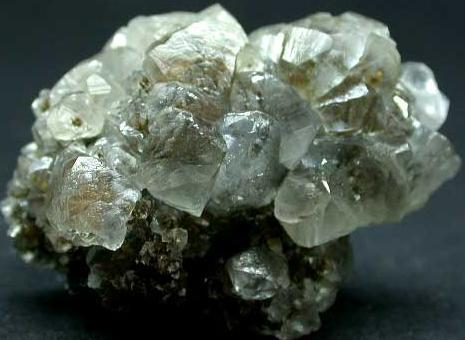calcite: (4, 5, 458, 252)
